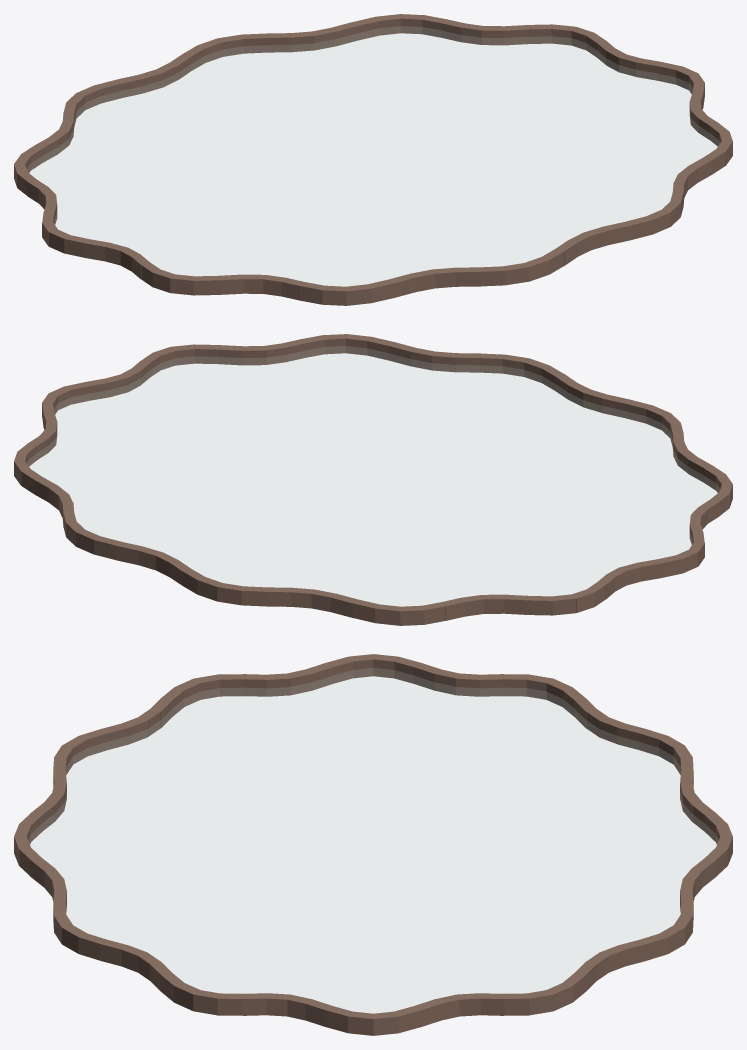
Rendered from table.glb.
3 views of the same model, one above another, from view 1: azimuth 30°, elevation 25°; view 2: azimuth 150°, elevation 25°; view 3: azimuth 270°, elevation 25° (orthographic). The views are drawn at different scales.
Parts seen in each view (by area): view 1: table part 0, table part 1; view 2: table part 0, table part 1; view 3: table part 0, table part 1.
Boxes of the visible parts, x1,y1,x2,y2 form: table part 0: (27, 26, 719, 285); table part 1: (14, 14, 732, 305); table part 0: (27, 346, 719, 605); table part 1: (14, 334, 732, 625); table part 0: (29, 668, 717, 1012); table part 1: (14, 654, 732, 1035).
Size of the model in its own units: 6.96 by 0.1496 by 5.8.
